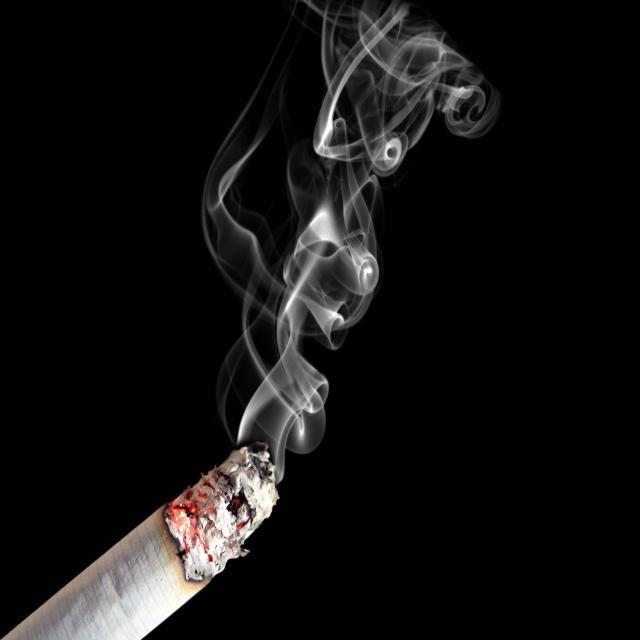cigarette: (0, 427, 278, 639)
